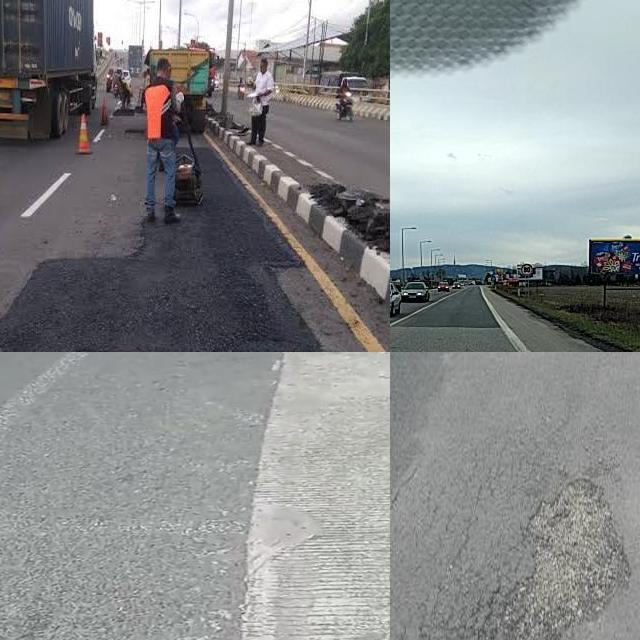Sambungan: (0, 141, 317, 352), (235, 352, 390, 640), (390, 282, 500, 328)
